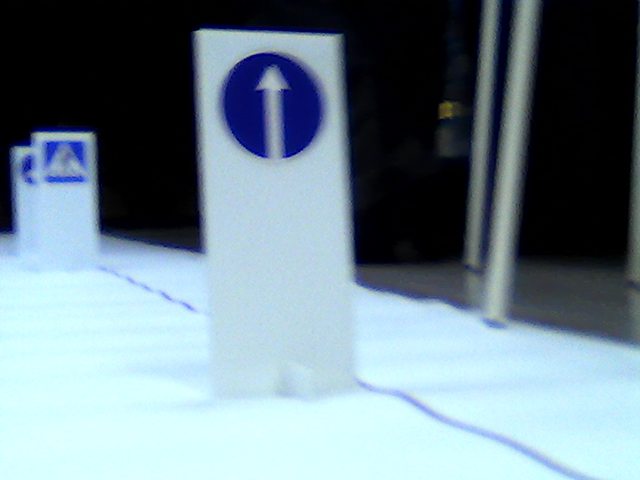forw: (216, 45, 325, 164)
pesh: (44, 138, 86, 183)
